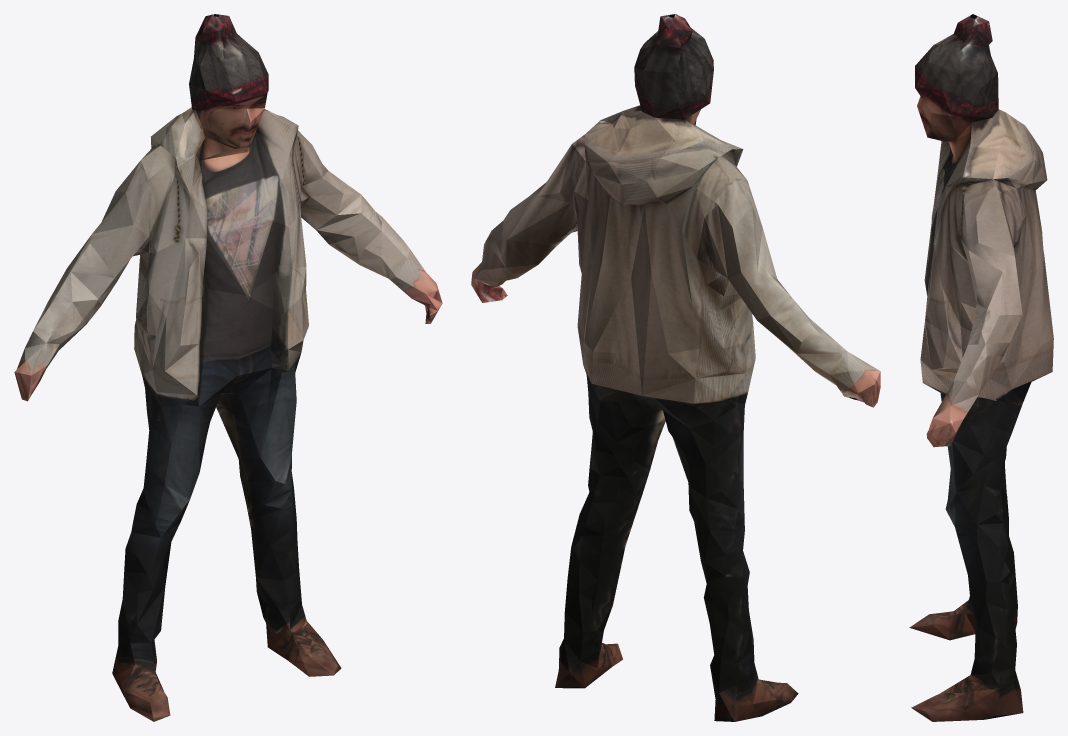
File: Jonathan1k.obj
3 renders of one model, left to right at view 1: azimuth 30°, elevation 25°; view 2: azimuth 150°, elevation 25°; view 3: azimuth 270°, elevation 25°, orthographic. The views are drawn at different scales.
Visible parts, largest first — view 1: Jonathan2.001; view 2: Jonathan2.001; view 3: Jonathan2.001.
Boxes of the visible parts, <box> form: Jonathan2.001: <box>14,14,442,721</box>; Jonathan2.001: <box>471,14,880,721</box>; Jonathan2.001: <box>909,14,1053,721</box>.
Size of the model in its own units: 6.18 by 9.63 by 1.92.
